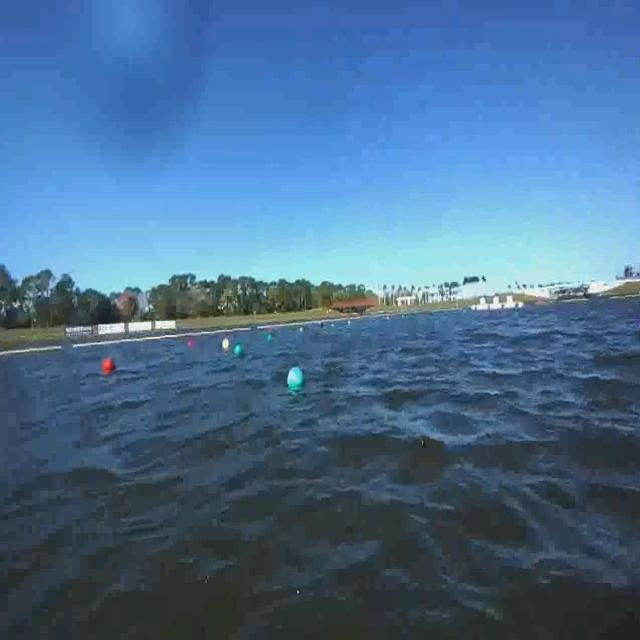green-buoy: (287, 368, 304, 390), (235, 343, 244, 358)
red-buoy: (103, 358, 117, 373)
yellow-buoy: (221, 338, 230, 352)
